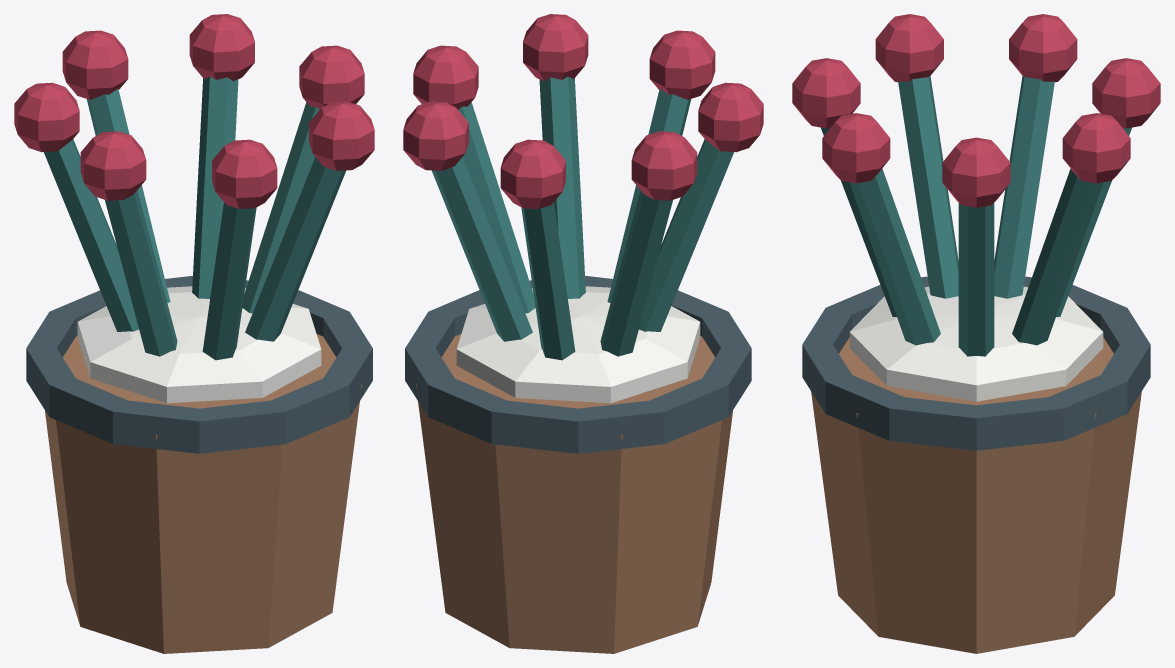
File: winter-hearth-village-winter-berry-planter-22af2844.glb
3 views of the same model, side by side, from view 1: azimuth 30°, elevation 25°; view 2: azimuth 150°, elevation 25°; view 3: azimuth 270°, elevation 25° (orthographic).
Parts seen in each view (by area): view 1: winter-berry-planter-wood, winter-berry-planter-spruce, winter-berry-planter-red, winter-berry-planter-iron, winter-berry-planter-snow; view 2: winter-berry-planter-wood, winter-berry-planter-spruce, winter-berry-planter-red, winter-berry-planter-iron, winter-berry-planter-snow; view 3: winter-berry-planter-wood, winter-berry-planter-spruce, winter-berry-planter-red, winter-berry-planter-iron, winter-berry-planter-snow.
Part boxes in pixels (<box>): winter-berry-planter-wood: <box>45,334,361,653</box>; winter-berry-planter-spruce: <box>44,76,346,360</box>; winter-berry-planter-red: <box>14,14,374,208</box>; winter-berry-planter-iron: <box>26,276,372,453</box>; winter-berry-planter-snow: <box>77,286,321,403</box>; winter-berry-planter-wood: <box>416,334,732,653</box>; winter-berry-planter-spruce: <box>431,76,733,360</box>; winter-berry-planter-red: <box>403,14,763,208</box>; winter-berry-planter-iron: <box>405,276,751,453</box>; winter-berry-planter-snow: <box>456,286,700,403</box>; winter-berry-planter-wood: <box>811,337,1141,653</box>; winter-berry-planter-spruce: <box>821,76,1131,356</box>; winter-berry-planter-red: <box>792,14,1160,207</box>; winter-berry-planter-iron: <box>802,276,1150,450</box>; winter-berry-planter-snow: <box>849,286,1103,401</box>.
Size of the model in its own units: 0.7066 by 1.12 by 0.7181.
